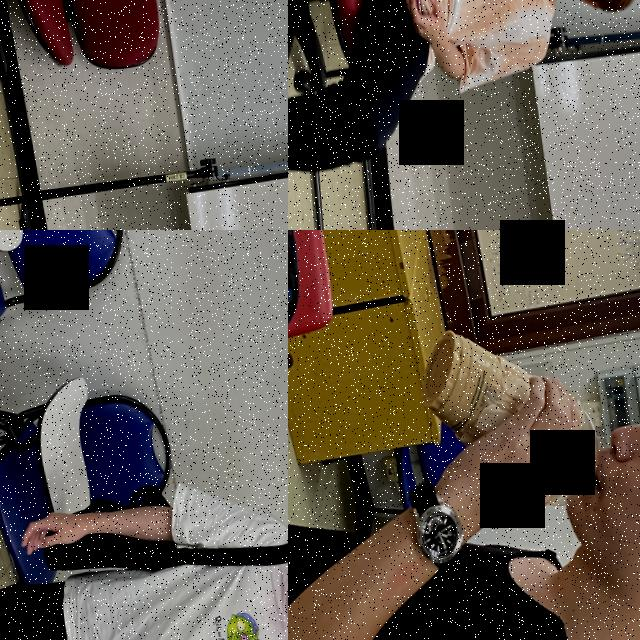cup: (416, 314, 603, 519)
